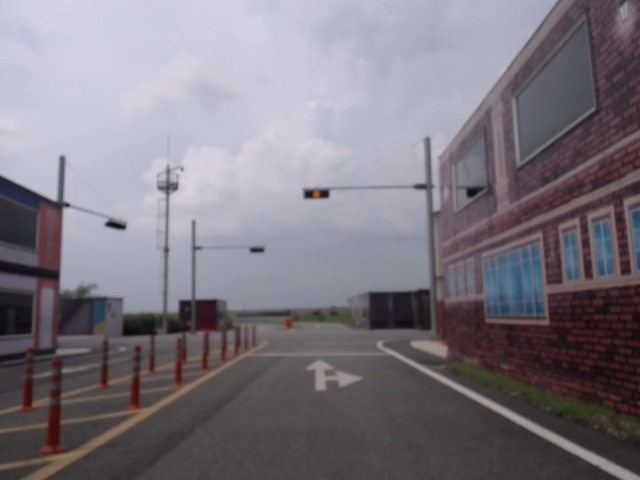orange_3: (302, 188, 330, 199)
